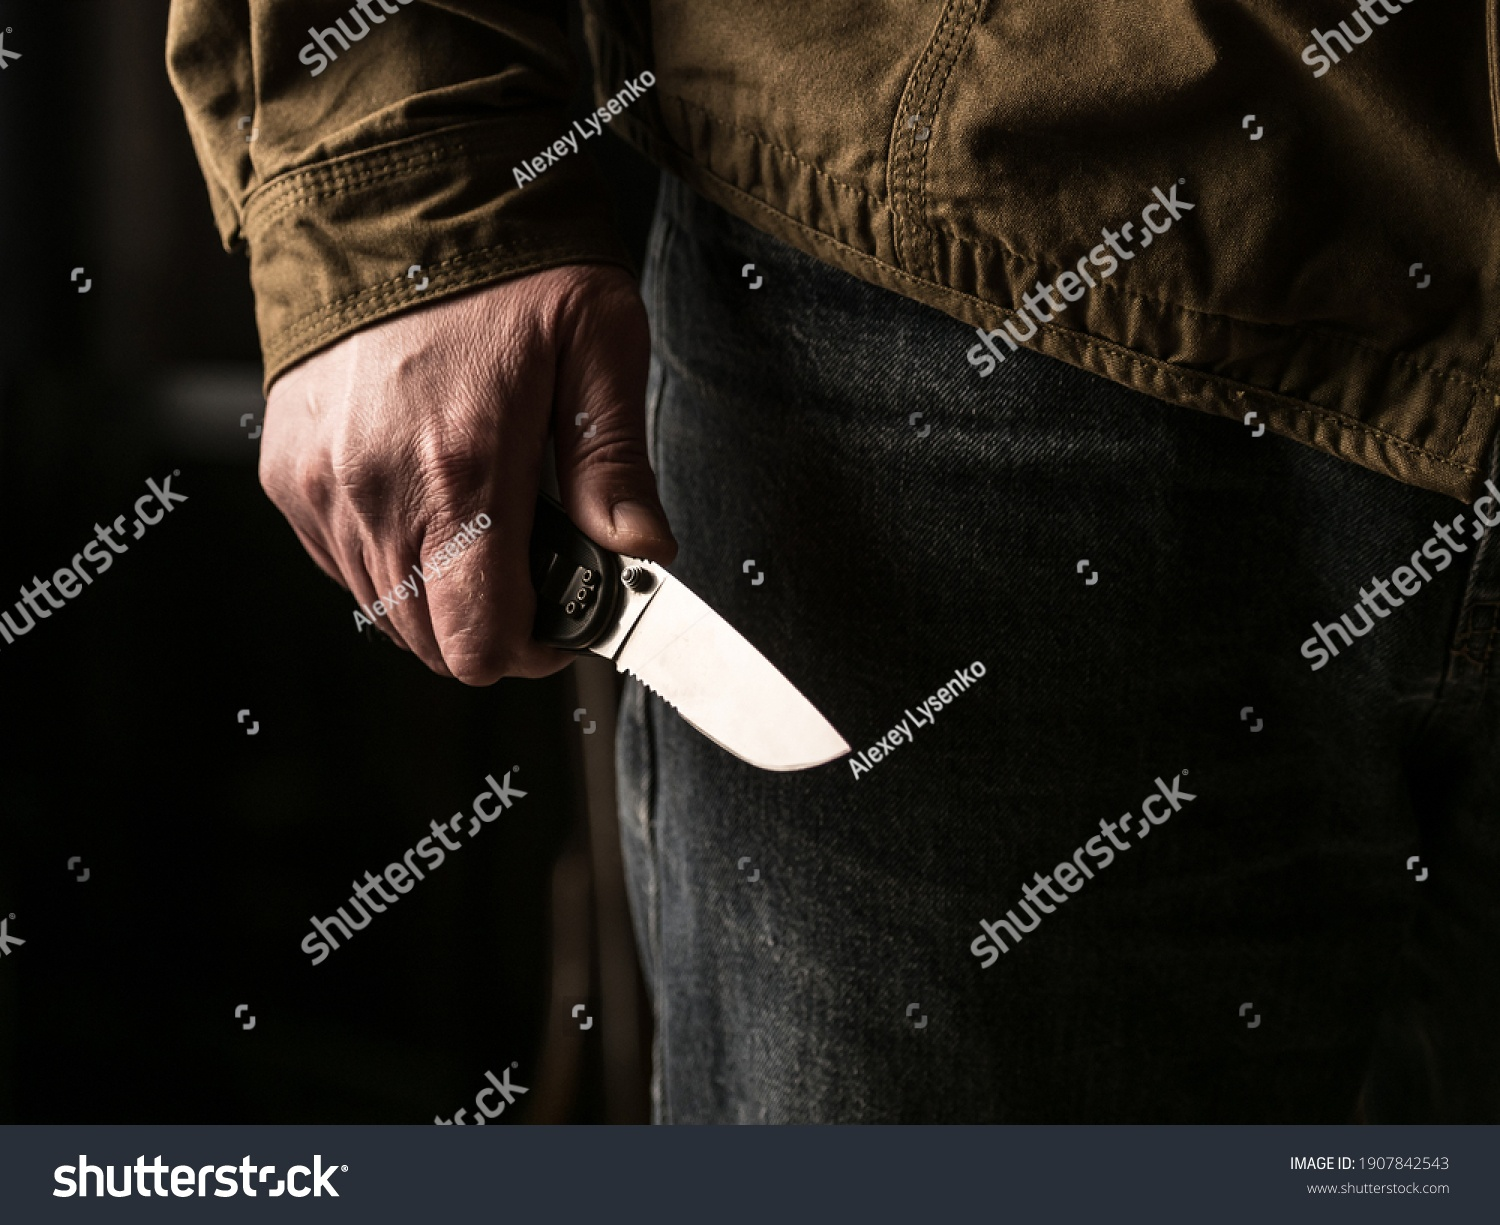knife: (527, 512, 853, 771)
